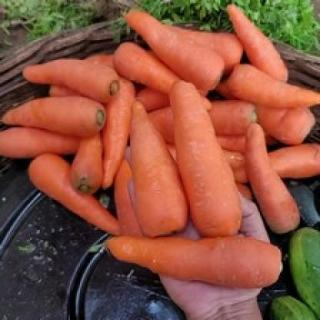Wortel: (167, 82, 243, 238), (106, 236, 284, 287)
